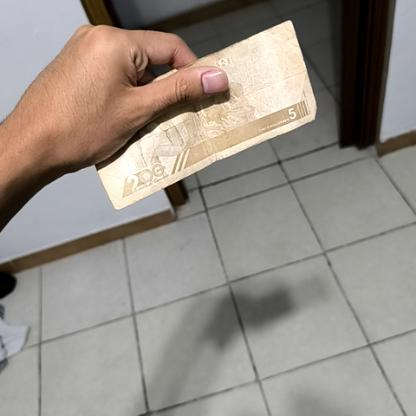five-back-vef: (96, 19, 316, 210)
